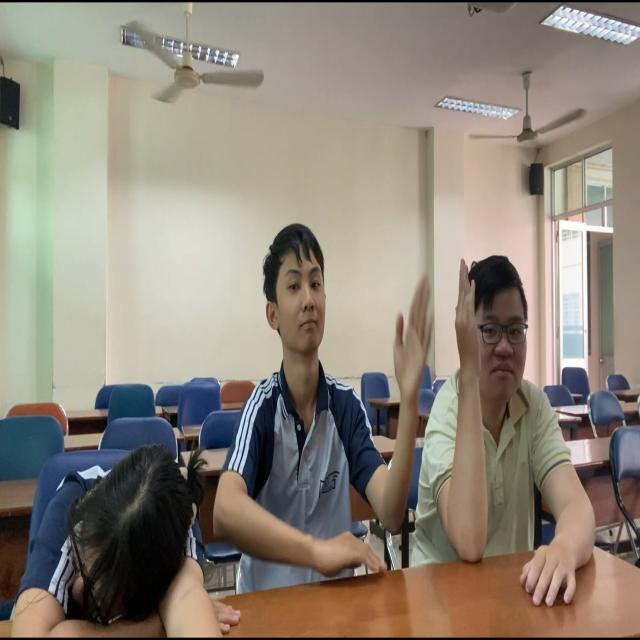raise_hand: (429, 254, 581, 588)
sleep: (1, 433, 216, 640)
